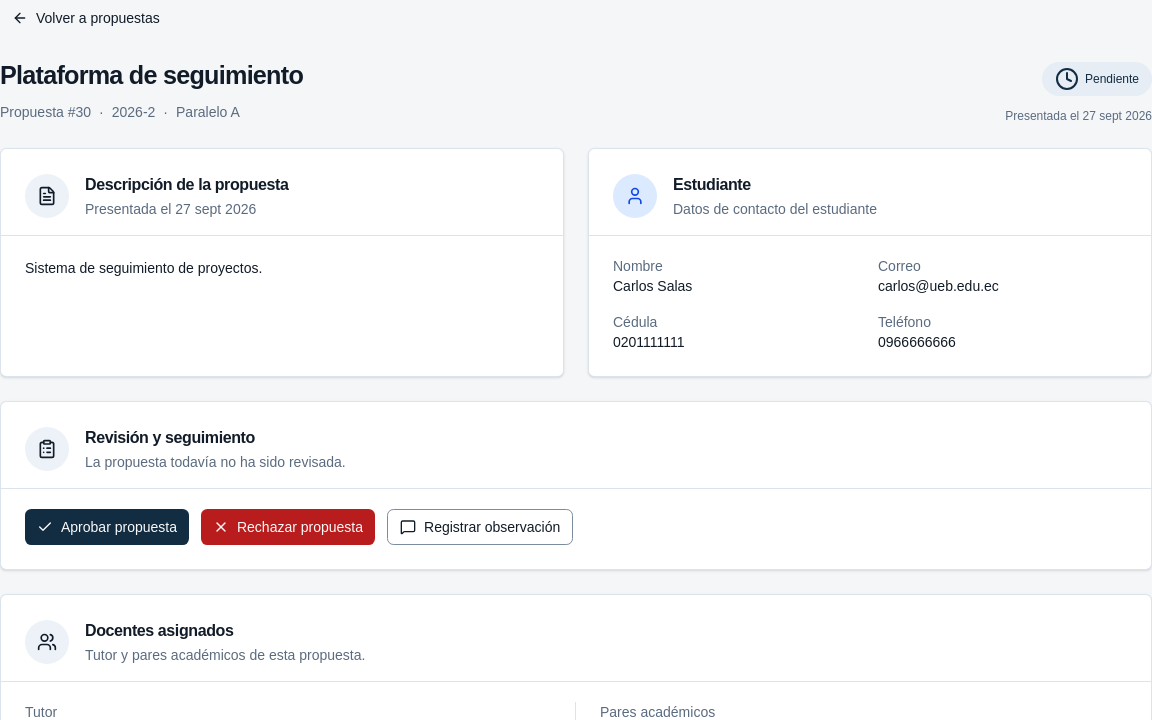
Test case: Coordinación de titulación › busca docentes de todas las facultades en tiempo real para tutor y pares
The image size is (1152, 720).
Click the button "Aprobar propuesta" at coordinates (107, 526), box [25,508,189,544]
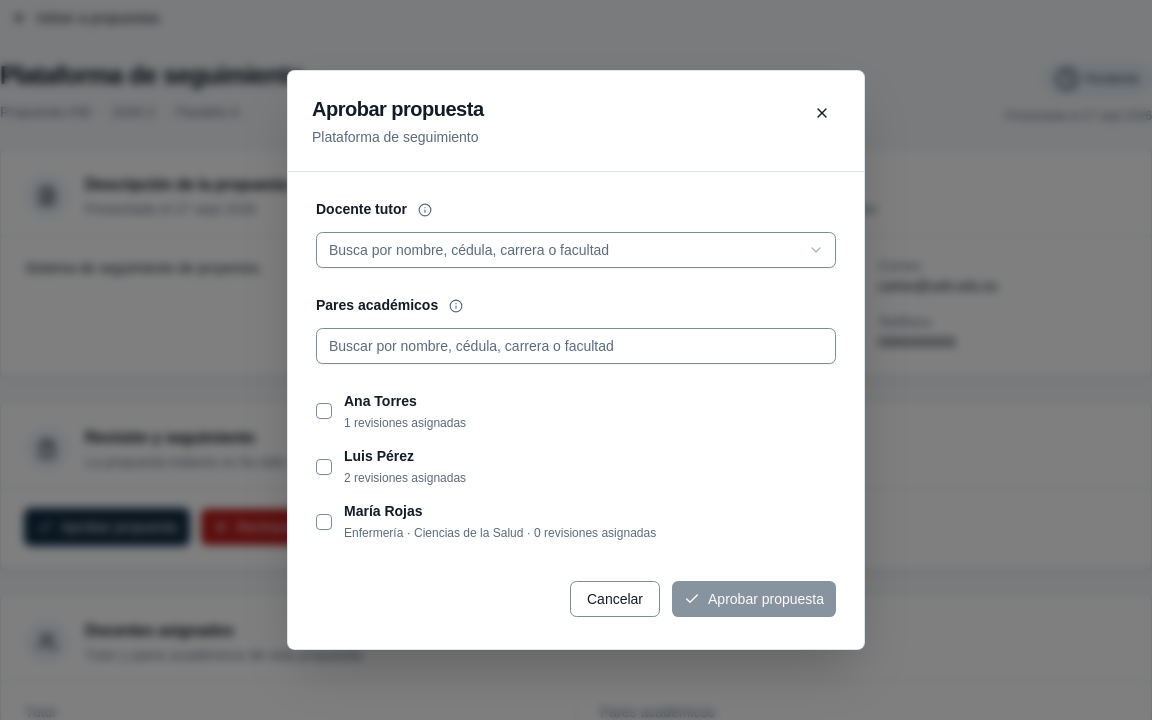
// Al escribir se consulta al servidor sin pulsar ningún botón.
Type "salud" into the dropdown labelled "Docente tutor" at coordinates (576, 250), box [316,232,836,268]
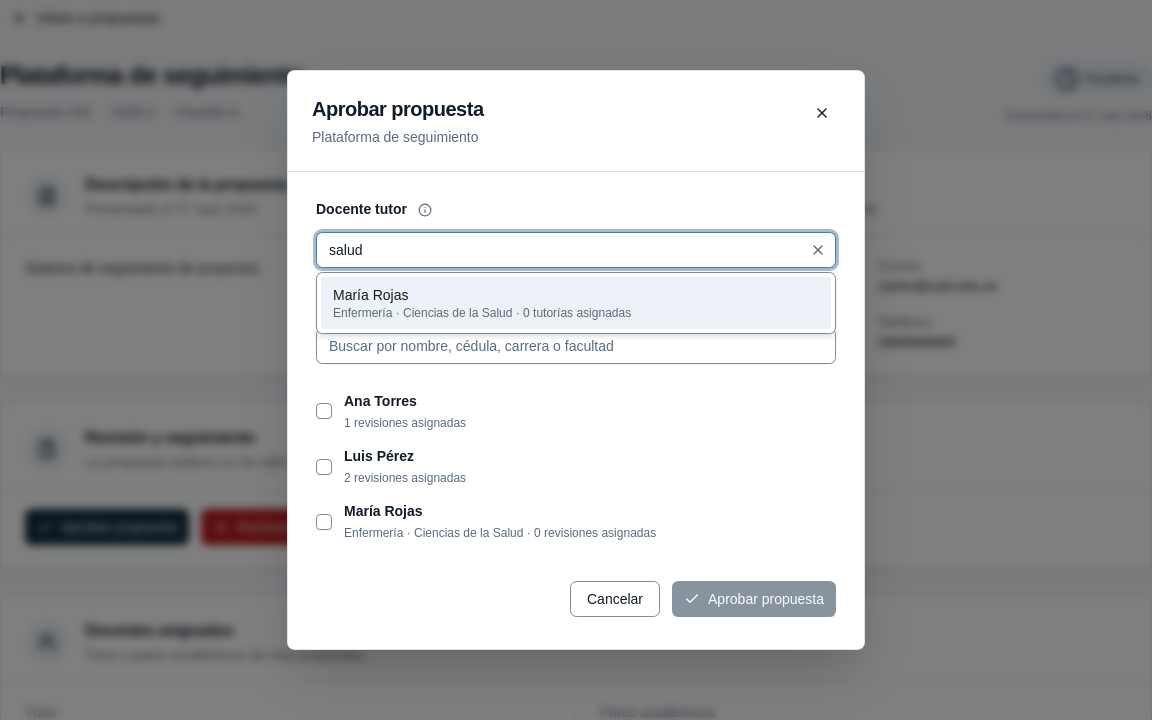
Expected: the option "María Rojas" shows "Enfermería · Ciencias de la Salud"
Click the option "María Rojas" at coordinates (576, 303), box [321,277,831,329]
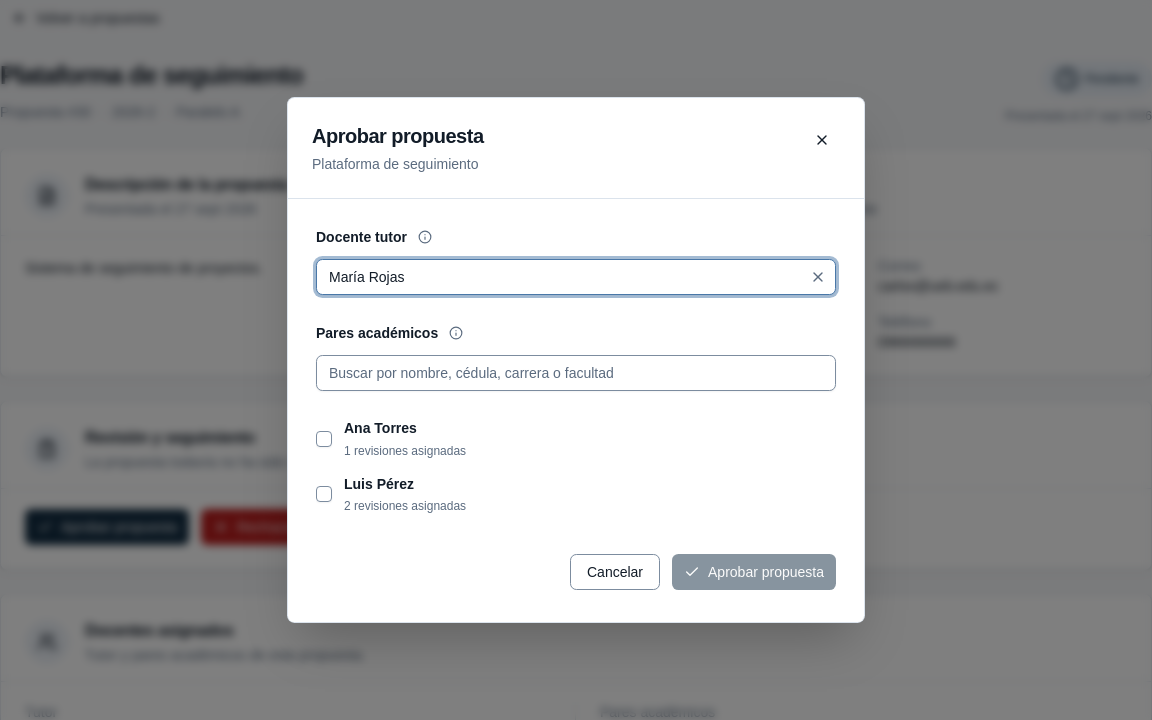
Expected: the dropdown labelled "Docente tutor" holds "María Rojas", [316,259,836,295]
// El par elegido sigue visible aunque la búsqueda cambie.
Click the checkbox named "Ana Torres" next to "Ana Torres" at coordinates (324, 439), box [316,431,332,447]
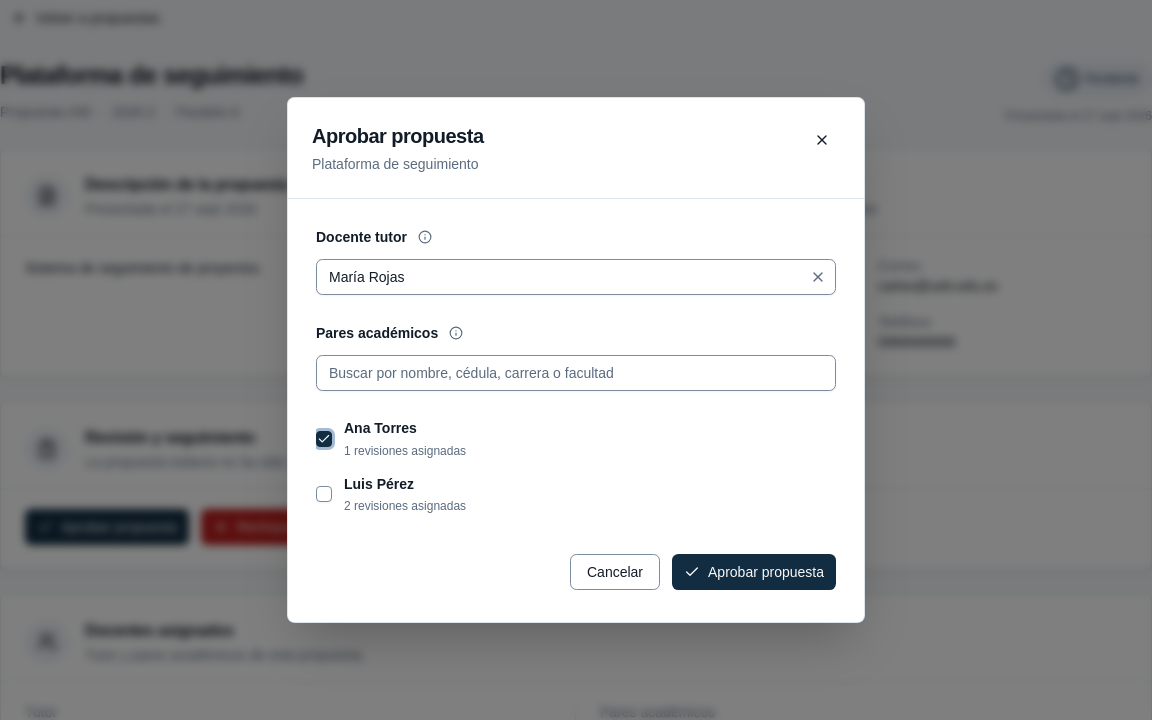
Type "zzz" into the search field labelled "Pares académicos" at coordinates (576, 373), box [316,355,836,391]
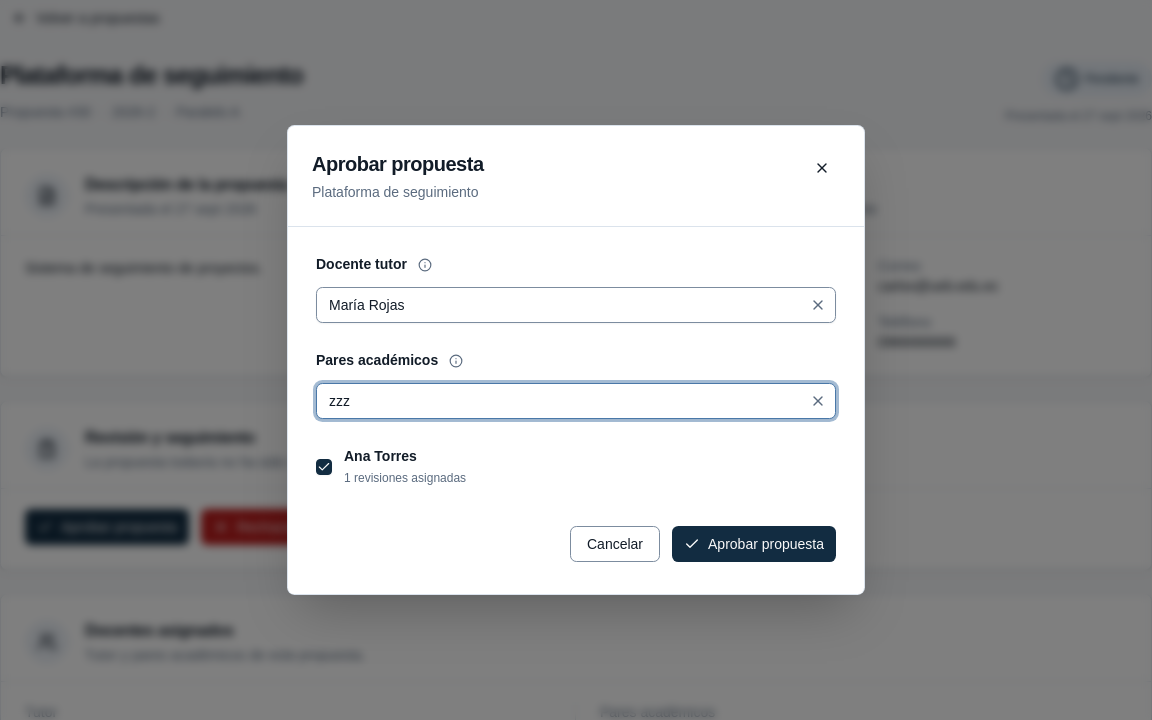
Expected: the checkbox named "Ana Torres" is checked, [316,458,332,474]
Expected: the button "Aprobar propuesta" is enabled, [672,526,836,562]
Expected: the text "Luis Pérez" is gone
